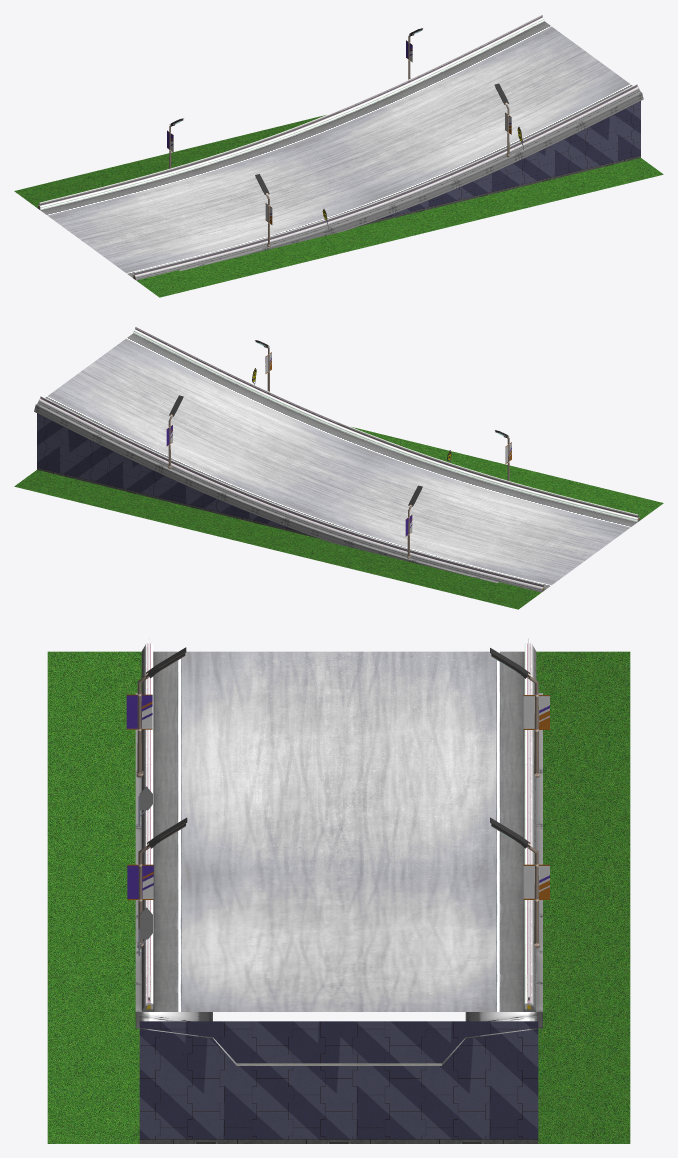
File: T15 - Ground.fbx
3 renders of one model, top to bottom at view 1: azimuth 30°, elevation 25°; view 2: azimuth 150°, elevation 25°; view 3: azimuth 270°, elevation 25°, orthographic. The views are drawn at different scales.
Parts seen in each view (by area): view 1: straight_road, standard_ground_grass, barrier_elevated5, retainer1, standard_bridge3; view 2: straight_road, standard_ground_grass, barrier_elevated5, retainer1, standard_bridge3; view 3: straight_road, standard_ground_grass, retainer1, barrier_elevated5, standard_bridge3, pro_streetlight_banner_3, pro_streetlight_banner_1, pro_streetlight_banner, pro_streetlight_banner_2, dress_corner_warning_left.
Boxes of the visible parts, x1,y1,x2,y2 form: straight_road: [40, 21, 632, 277]; standard_ground_grass: [14, 112, 663, 297]; barrier_elevated5: [37, 14, 640, 280]; retainer1: [359, 101, 640, 226]; standard_bridge3: [179, 91, 643, 271]; straight_road: [45, 333, 637, 589]; standard_ground_grass: [14, 424, 663, 609]; barrier_elevated5: [37, 326, 640, 592]; retainer1: [37, 413, 317, 538]; standard_bridge3: [34, 403, 498, 583]; straight_road: [153, 651, 524, 1011]; standard_ground_grass: [47, 651, 630, 1143]; retainer1: [139, 1021, 538, 1143]; barrier_elevated5: [141, 638, 536, 1011]; standard_bridge3: [135, 693, 542, 1065]; pro_streetlight_banner_3: [126, 647, 186, 777]; pro_streetlight_banner_1: [490, 817, 549, 948]; pro_streetlight_banner: [490, 648, 549, 777]; pro_streetlight_banner_2: [127, 817, 187, 948]; dress_corner_warning_left: [138, 786, 152, 955].
Bounding box in the file's own units: 12947 × 2543 × 6400.
